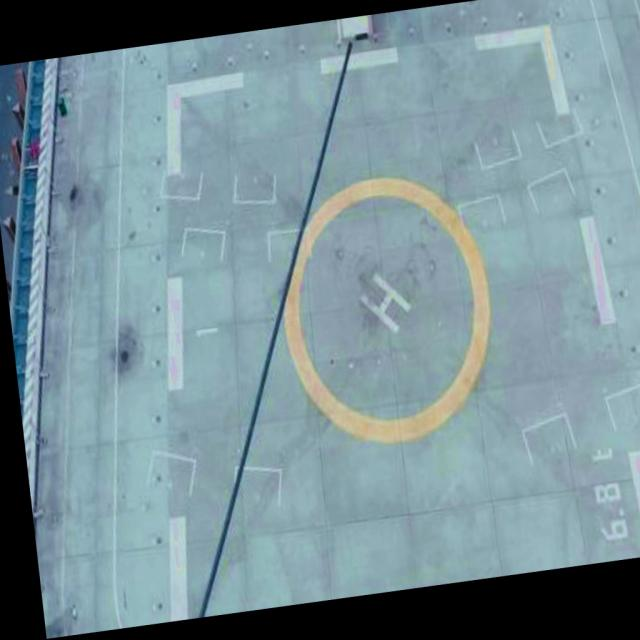helipad: (276, 171, 497, 446)
